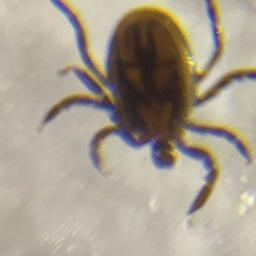Ixodes scapularis: (38, 0, 256, 215)
